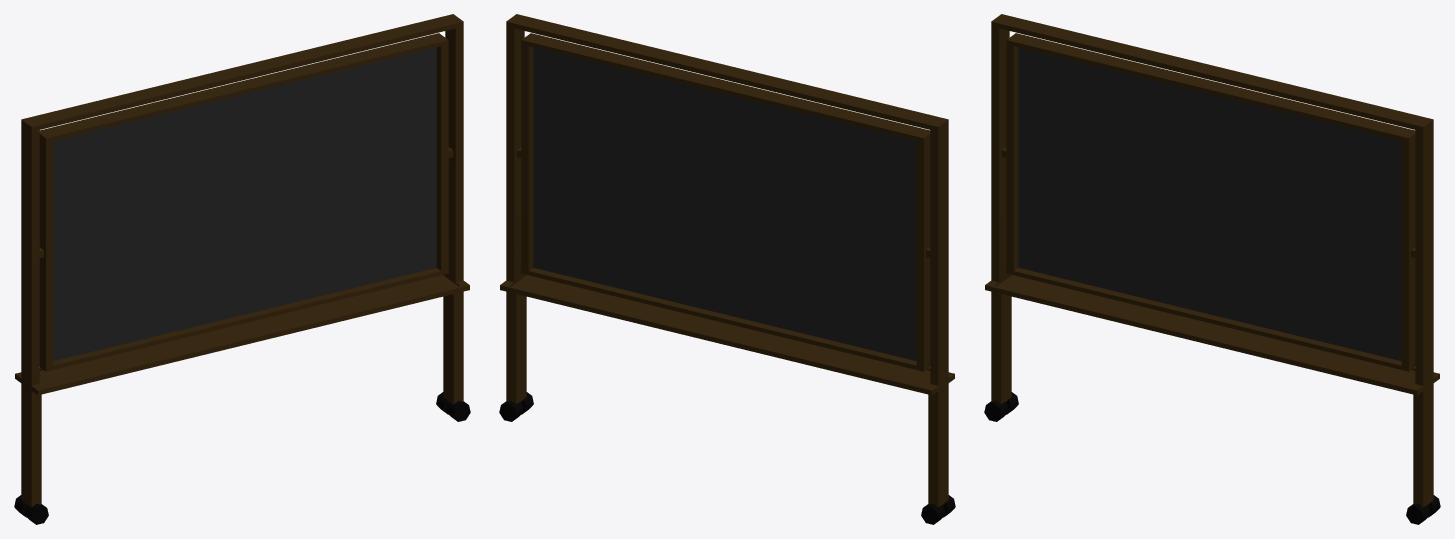
The model's file is MobileChalkboard.glb.
3 renders of one model, left to right at view 1: azimuth 30°, elevation 25°; view 2: azimuth 150°, elevation 25°; view 3: azimuth 330°, elevation 25°, orthographic.
Visible parts, largest first — view 1: MobileChalkboard; view 2: MobileChalkboard; view 3: MobileChalkboard.
Part boxes in pixels (bbox=[...]): MobileChalkboard: bbox=[14, 14, 470, 524]; MobileChalkboard: bbox=[499, 14, 955, 524]; MobileChalkboard: bbox=[984, 14, 1440, 524].
Size of the model in its own units: 3.27 by 2.82 by 0.2967.
1 material, 1 textured.
